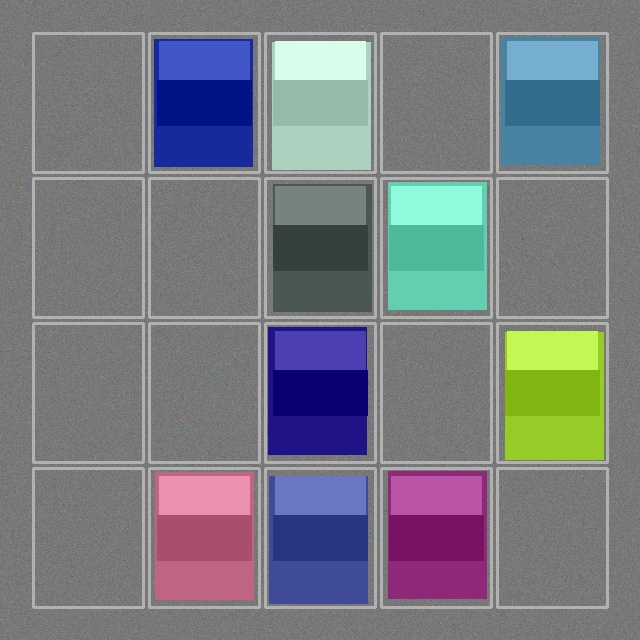space-empty: (35, 35, 141, 170), (383, 35, 489, 170), (35, 180, 141, 315), (151, 180, 257, 315), (499, 180, 605, 315), (35, 325, 141, 460), (151, 325, 257, 460), (383, 325, 489, 460), (35, 470, 141, 605), (499, 470, 605, 605)
space-occupied: (151, 35, 257, 170), (267, 35, 373, 170), (499, 35, 605, 170), (267, 180, 373, 315), (383, 180, 489, 315), (267, 325, 373, 460), (499, 325, 605, 460), (151, 470, 257, 605), (267, 470, 373, 605), (383, 470, 489, 605)
